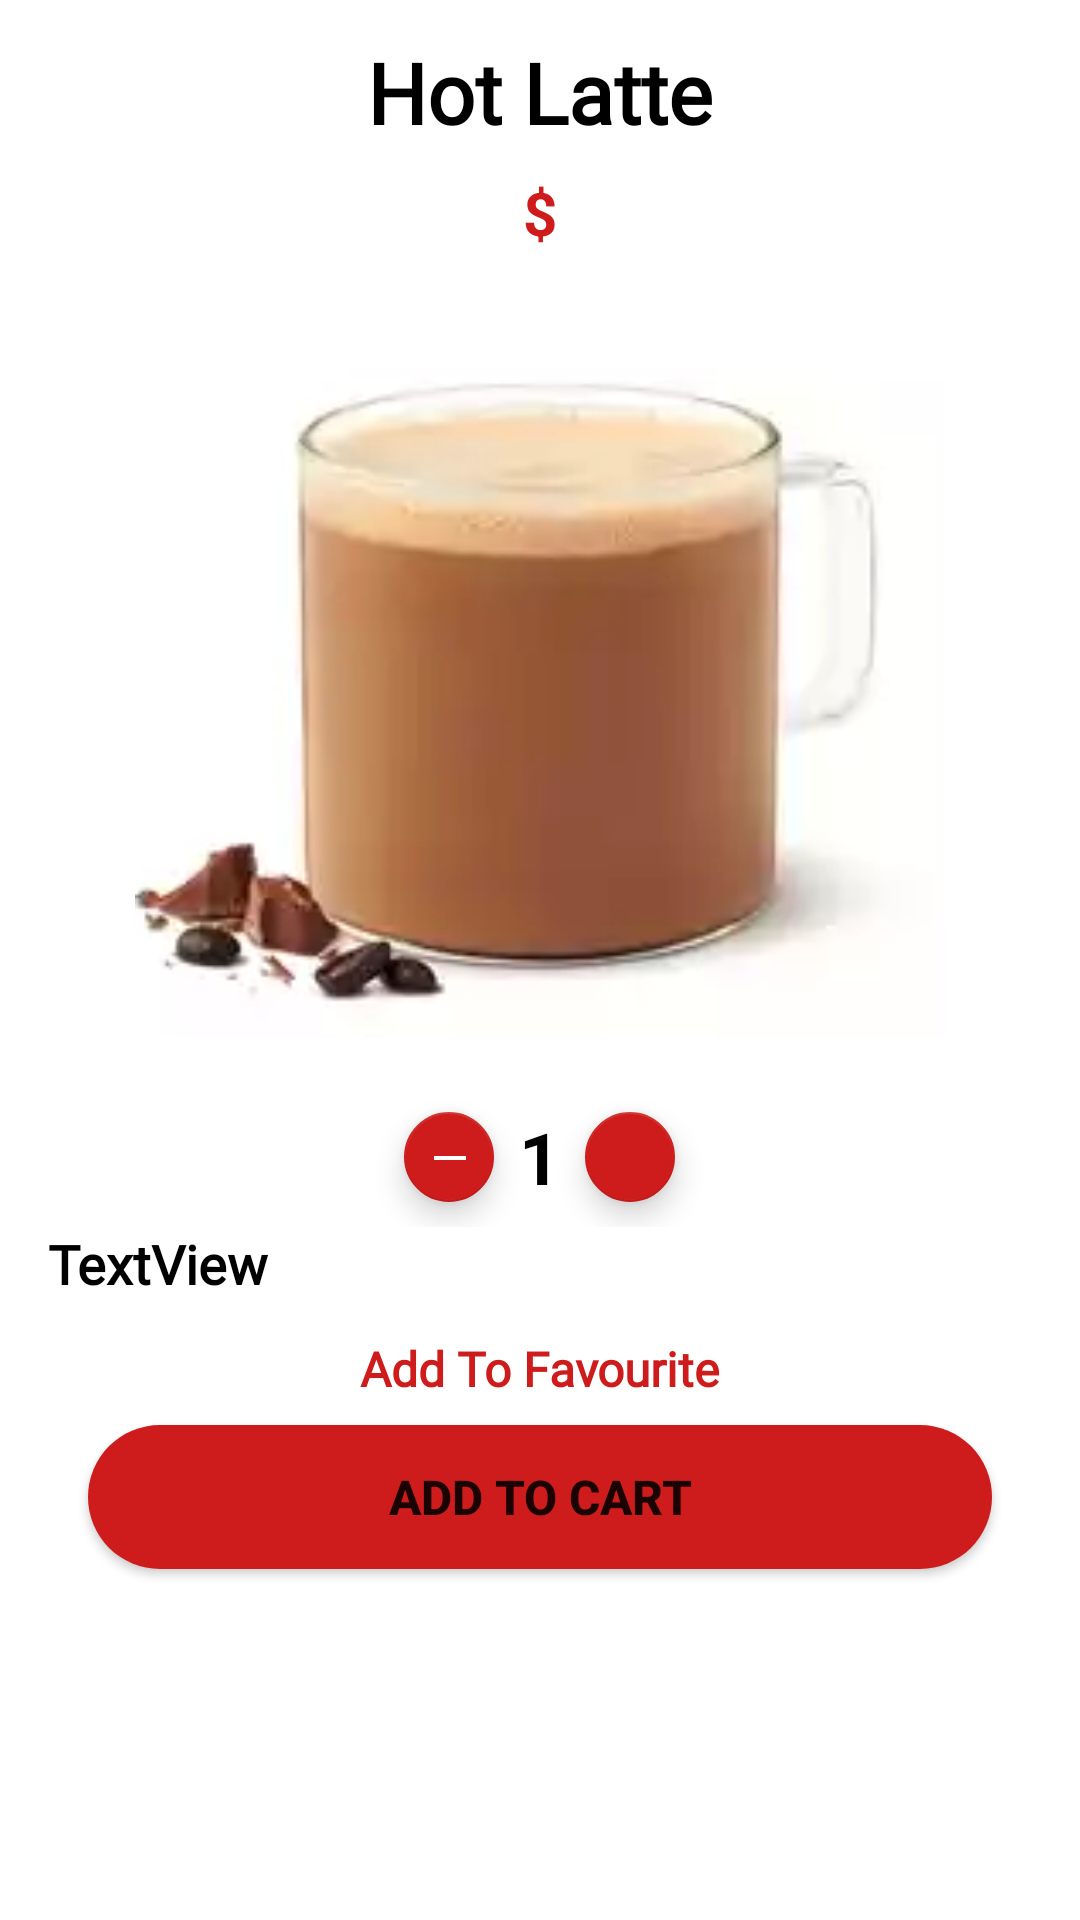

Screen size 1080w x 1920h. Icon name, then its center in pixels as (x,y):
minus: (449,1161)
